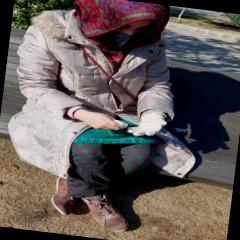gloved: (123, 108, 167, 139)
not-gloved: (70, 107, 122, 132)
